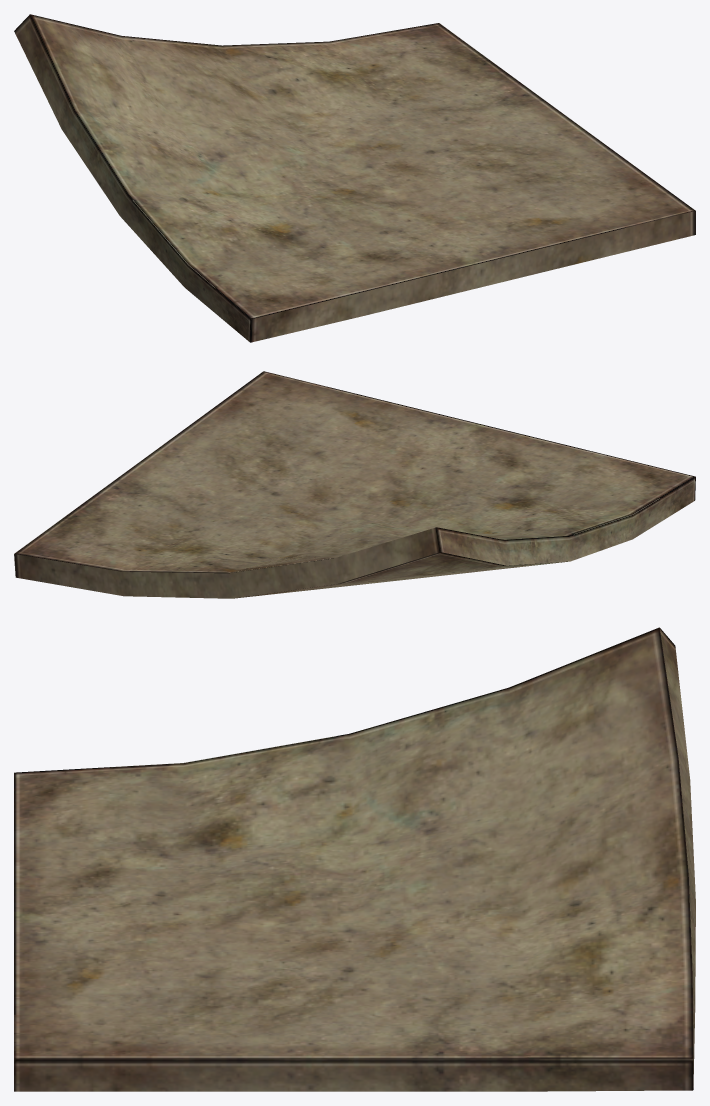
The model's file is pplant_ground_default_damaged01.dae.
The picture shows the model from 3 angles, top to bottom: view 1: azimuth 30°, elevation 25°; view 2: azimuth 150°, elevation 25°; view 3: azimuth 270°, elevation 25°; orthographic projection. The views are drawn at different scales.
Visible parts, largest first — view 1: ground_default_damaged01; view 2: ground_default_damaged01; view 3: ground_default_damaged01.
Boxes of the visible parts, box(x1,y1,x2,y2) form: ground_default_damaged01: box(14, 14, 695, 342); ground_default_damaged01: box(14, 371, 695, 598); ground_default_damaged01: box(14, 627, 695, 1091).
Size of the model in its own units: 2.01 by 0.6233 by 2.01.
